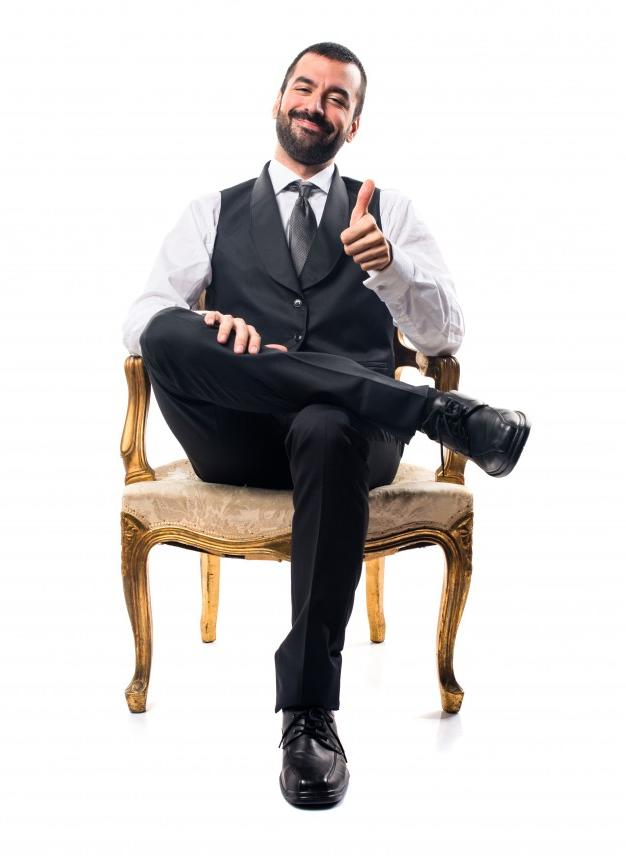thumbsup: (341, 179, 390, 271)
